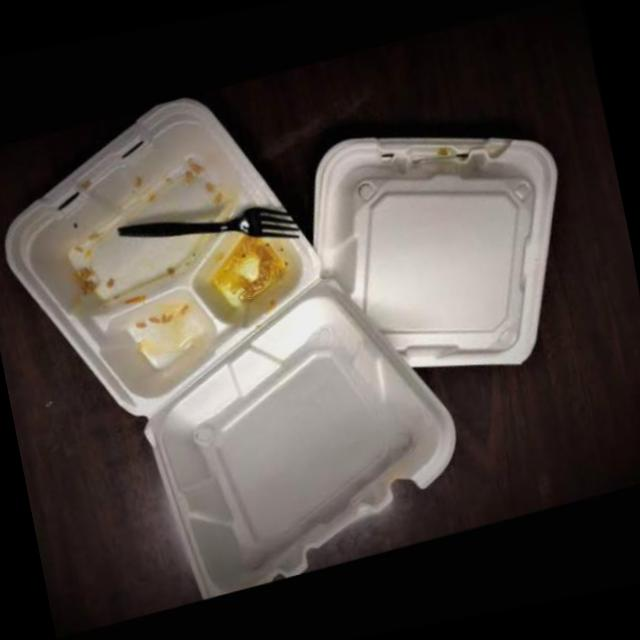xop: (4, 95, 462, 600), (314, 133, 561, 367)
